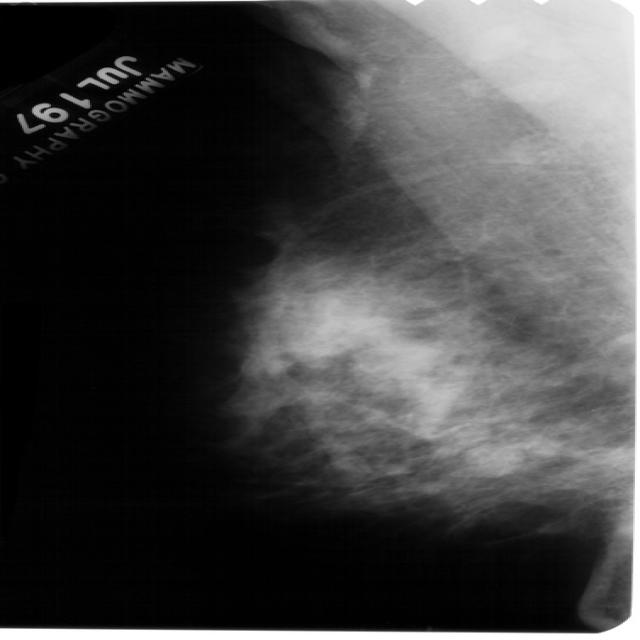tumour: (460, 442, 521, 476)
